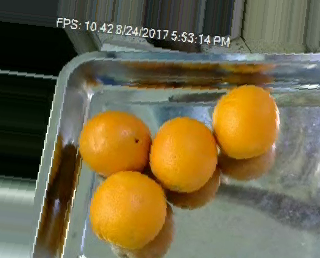Orange: (88, 169, 168, 249), (148, 116, 218, 194), (212, 83, 279, 160), (78, 111, 152, 179)
